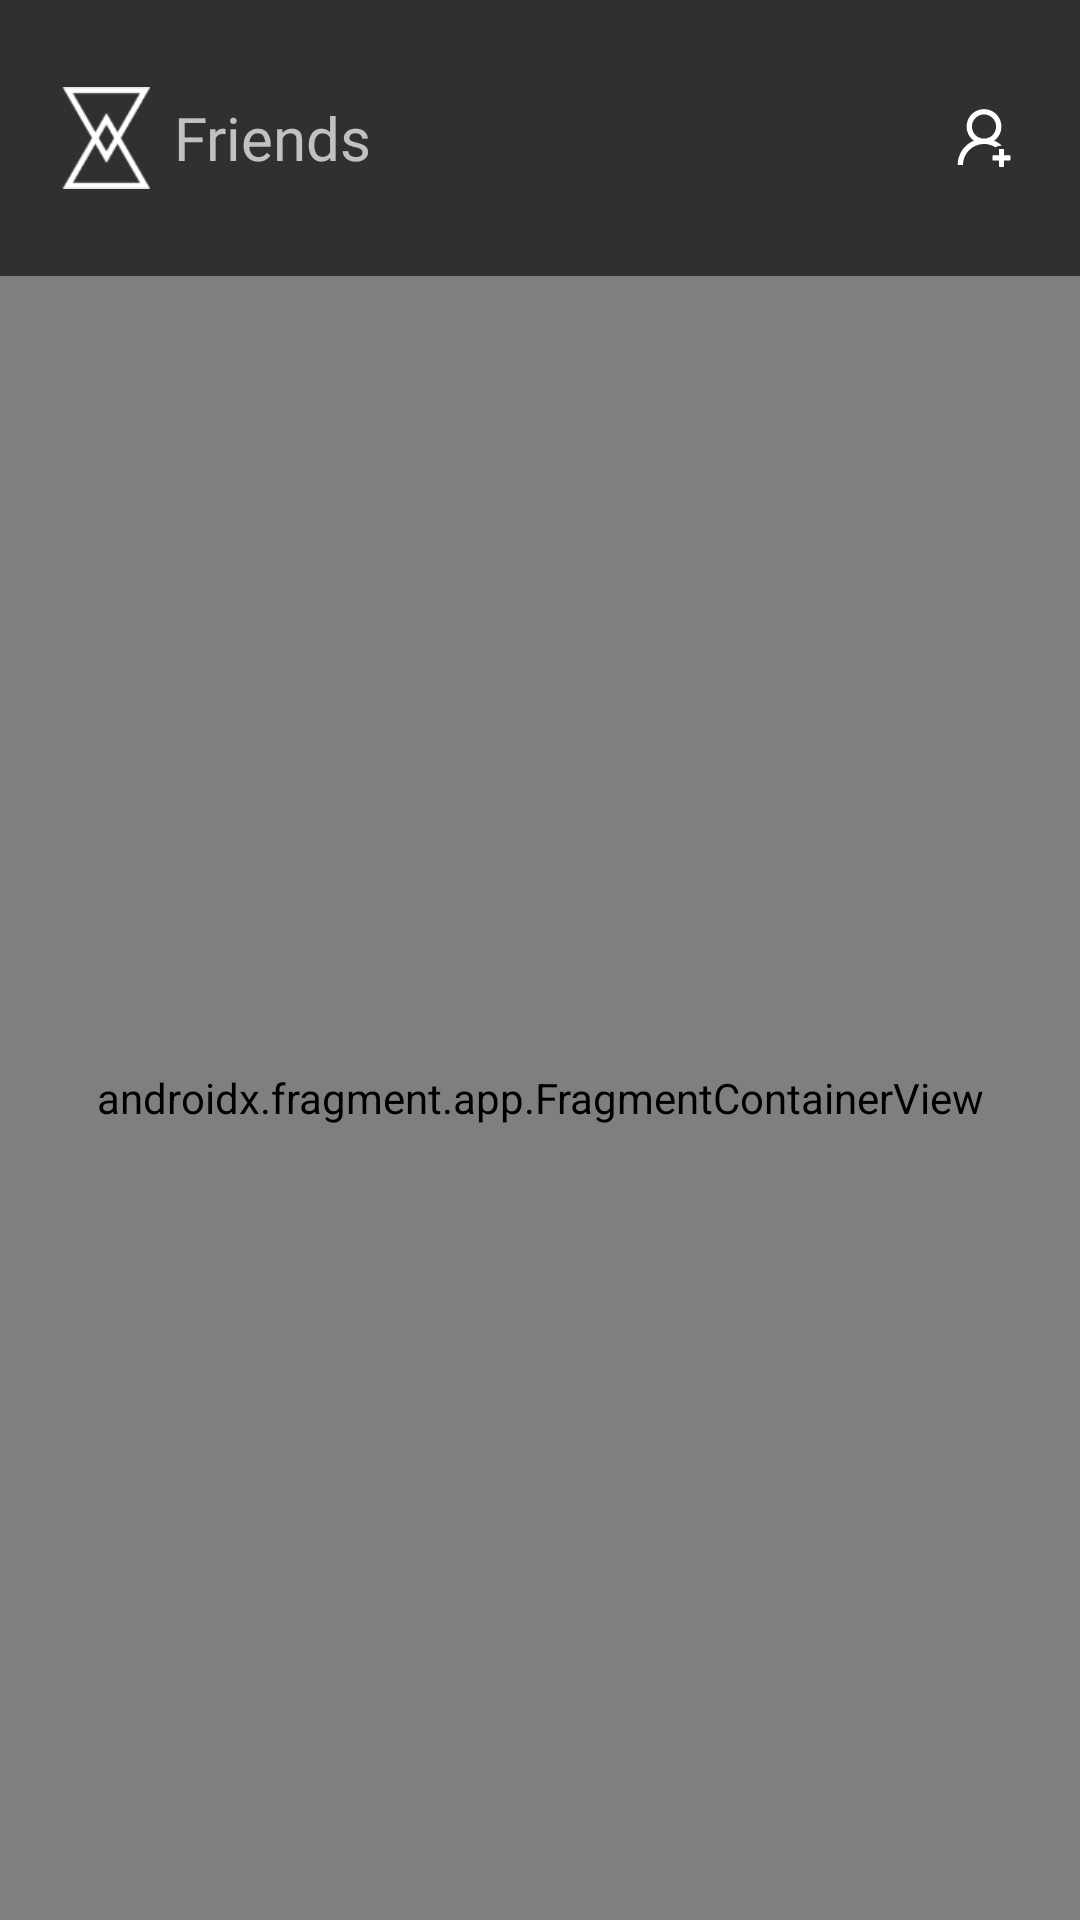

Where to tap for icons on this 1080×1920 app screen, as [x,y]:
addfriend: [984,138]
hourglass: [106,138]
